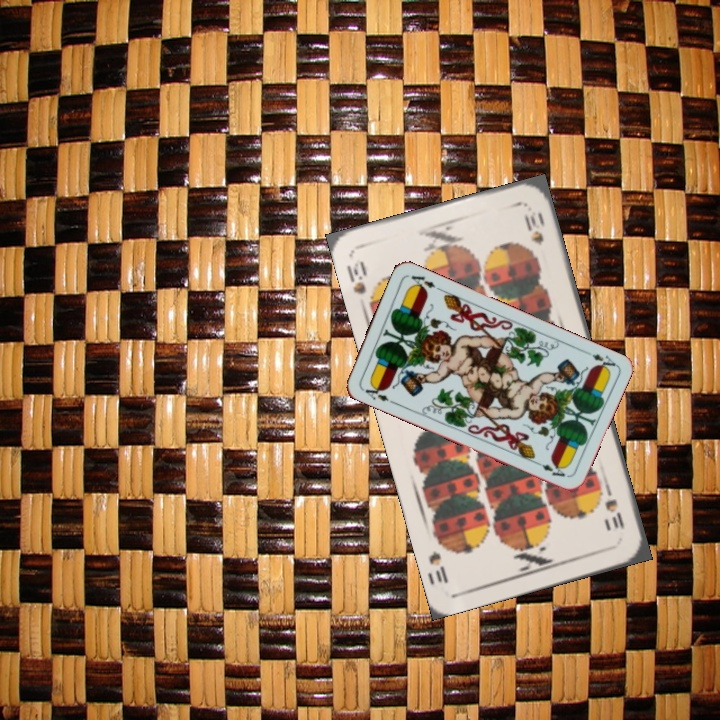EA: (357, 380, 396, 406), (588, 349, 618, 374)
S10: (601, 482, 627, 532), (342, 256, 370, 297)
